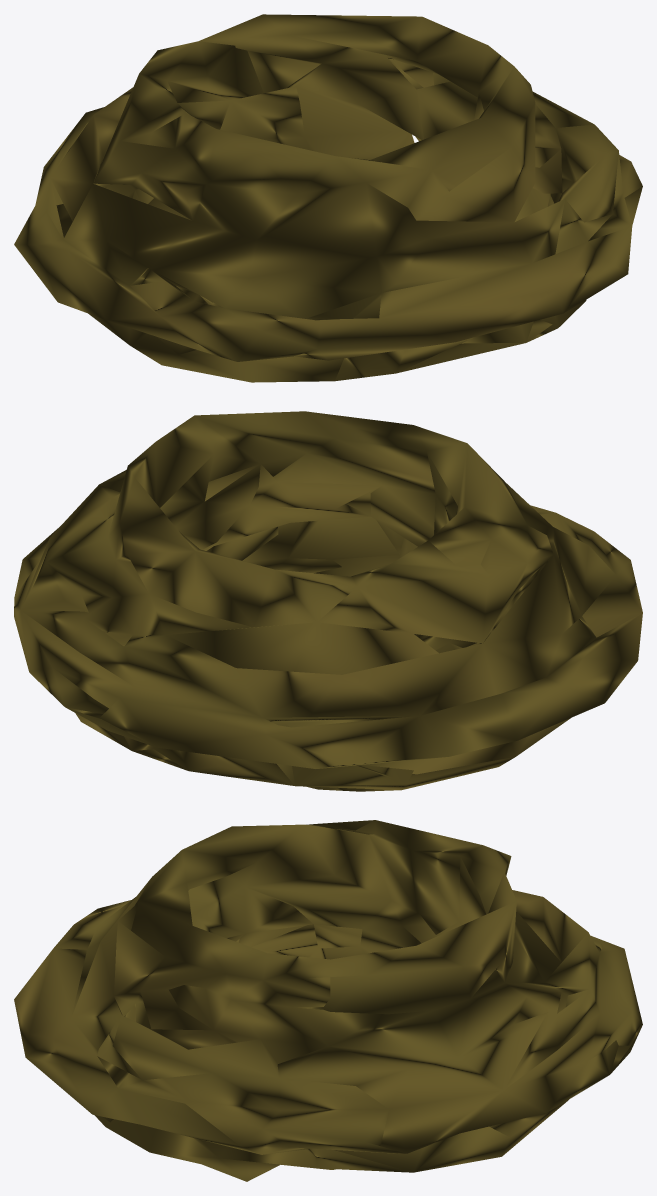
The model's file is gen3d-rope-coil-lod1.glb.
3 renders of one model, top to bottom at view 1: azimuth 30°, elevation 25°; view 2: azimuth 150°, elevation 25°; view 3: azimuth 270°, elevation 25°, orthographic. The views are drawn at different scales.
Parts seen in each view (by area): view 1: part_0; view 2: part_0; view 3: part_0.
Part boxes in pixels (x1,y1,x2,y2): part_0: [14, 14, 642, 382]; part_0: [14, 411, 642, 791]; part_0: [14, 820, 642, 1181].
Size of the model in its own units: 2.48 by 0.991 by 2.5.
